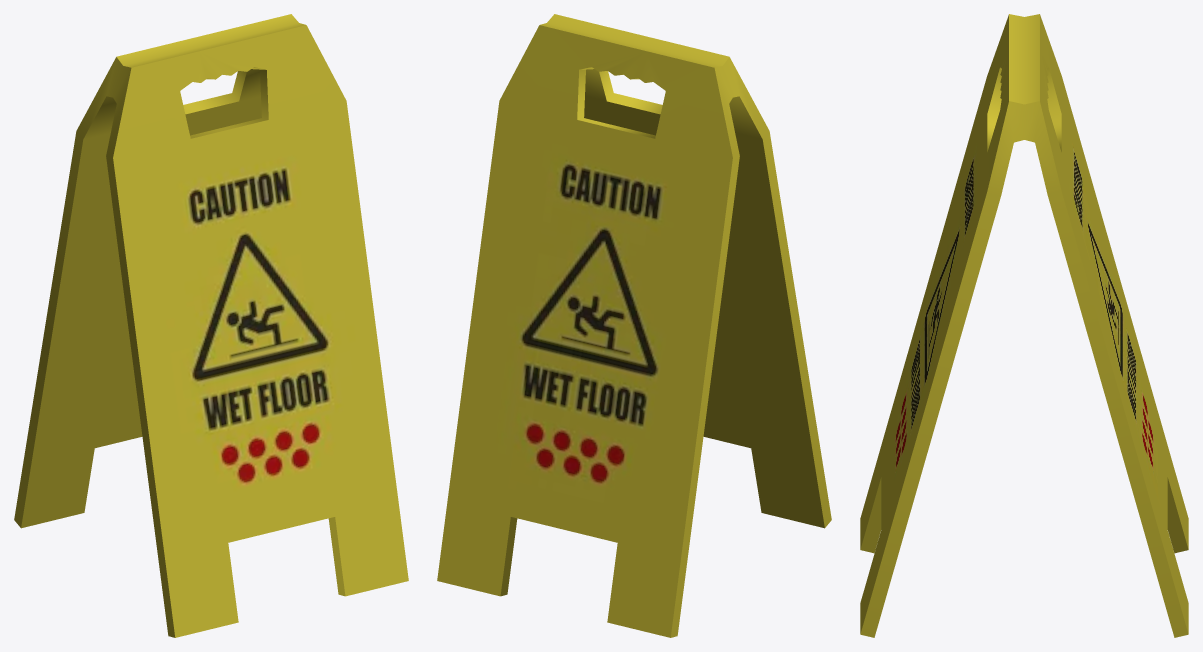
The model's file is wetfloorsign_01.glb.
3 renders of one model, left to right at view 1: azimuth 30°, elevation 25°; view 2: azimuth 150°, elevation 25°; view 3: azimuth 270°, elevation 25°, orthographic.
Parts seen in each view (by area): view 1: WetFloorSign_01; view 2: WetFloorSign_01; view 3: WetFloorSign_01.
Boxes of the visible parts, bbox=[...] form: WetFloorSign_01: bbox=[14, 14, 408, 637]; WetFloorSign_01: bbox=[437, 14, 831, 637]; WetFloorSign_01: bbox=[860, 14, 1188, 637].
Bounding box in the file's own units: 0.3 × 0.6295 × 0.3585.
Materials: 1 (1 with a texture image).
